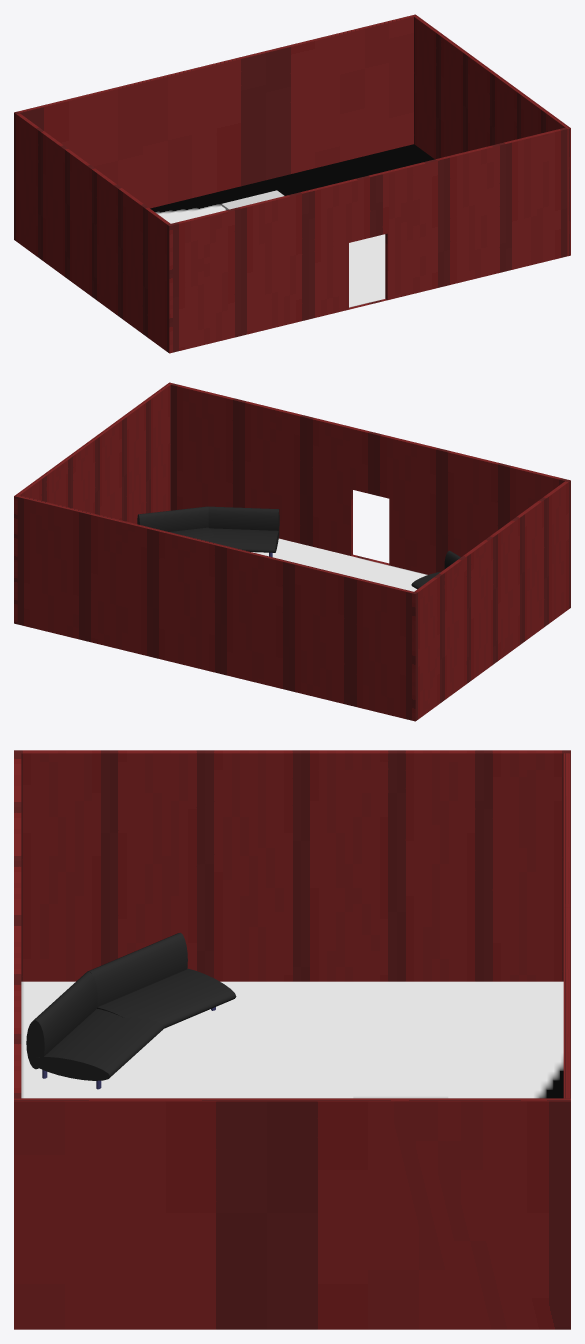
File: Living Room.fbx
3 views of the same model, one above another, from view 1: azimuth 30°, elevation 25°; view 2: azimuth 150°, elevation 25°; view 3: azimuth 270°, elevation 25° (orthographic). The views are drawn at different scales.
Parts seen in each view (by area): view 1: Cube, Cube.001, Cube.003, Cube.002, Floor, Table; view 2: Cube.001, Cube, Cube.003, Cube.002, Sofa, Floor; view 3: Cube.002, Cube.003, Floor, Sofa.001, Cube, Cube.001.
Part boxes in pixels (bbox=[...]): Cube: bbox=[171, 127, 567, 352]; Cube.001: bbox=[18, 15, 413, 208]; Cube.003: bbox=[14, 111, 172, 353]; Cube.002: bbox=[412, 14, 570, 256]; Floor: bbox=[150, 144, 434, 307]; Table: bbox=[221, 190, 284, 210]; Cube.001: bbox=[17, 495, 413, 720]; Cube: bbox=[171, 383, 566, 574]; Cube.003: bbox=[412, 479, 570, 721]; Cube.002: bbox=[14, 382, 172, 624]; Sofa: bbox=[137, 506, 279, 557]; Floor: bbox=[251, 538, 427, 591]; Cube.002: bbox=[14, 1098, 570, 1329]; Cube.003: bbox=[14, 750, 570, 981]; Floor: bbox=[21, 981, 563, 1098]; Sofa.001: bbox=[26, 932, 236, 1089]; Cube: bbox=[14, 753, 21, 1098]; Cube.001: bbox=[563, 753, 570, 1098].
Size of the model in its own units: 24.48 by 16.41 by 7.42.
